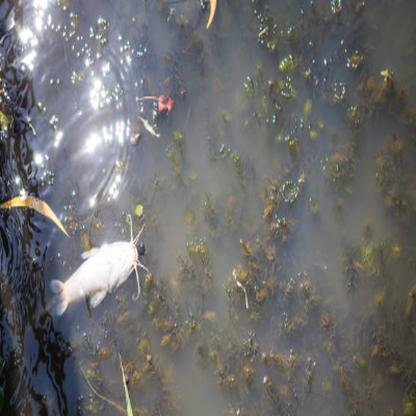deceased fish: (38, 212, 155, 319)
